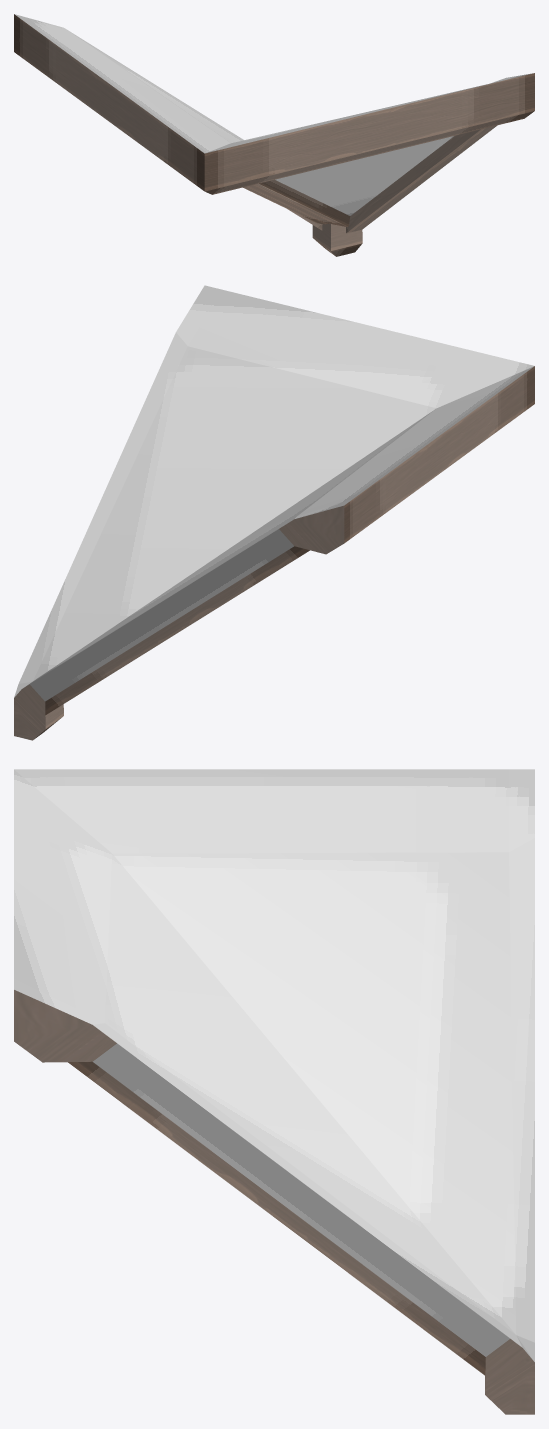
Rendered from SM_Ceiling_Wooden_Angle_01.fbx.
3 views of the same model, one above another, from view 1: azimuth 30°, elevation 25°; view 2: azimuth 150°, elevation 25°; view 3: azimuth 270°, elevation 25° (orthographic). The views are drawn at different scales.
Parts seen in each view (by area): view 1: SM_Ceiling_Wooden_Angle_01; view 2: SM_Ceiling_Wooden_Angle_01; view 3: SM_Ceiling_Wooden_Angle_01.
Part boxes in pixels (x1,y1,x2,y2): SM_Ceiling_Wooden_Angle_01: [14, 14, 534, 256]; SM_Ceiling_Wooden_Angle_01: [14, 285, 534, 740]; SM_Ceiling_Wooden_Angle_01: [14, 769, 534, 1414].
Size of the model in its own units: 500 by 500 by 450.
